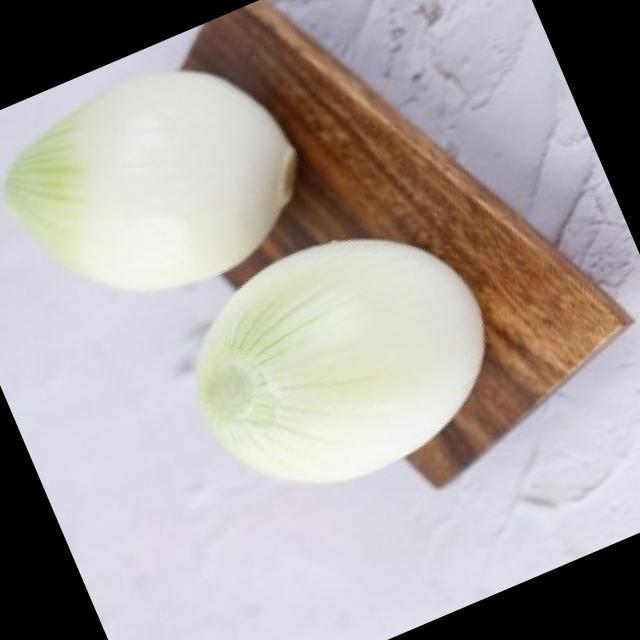Onion: (189, 239, 482, 492), (5, 70, 284, 292)
